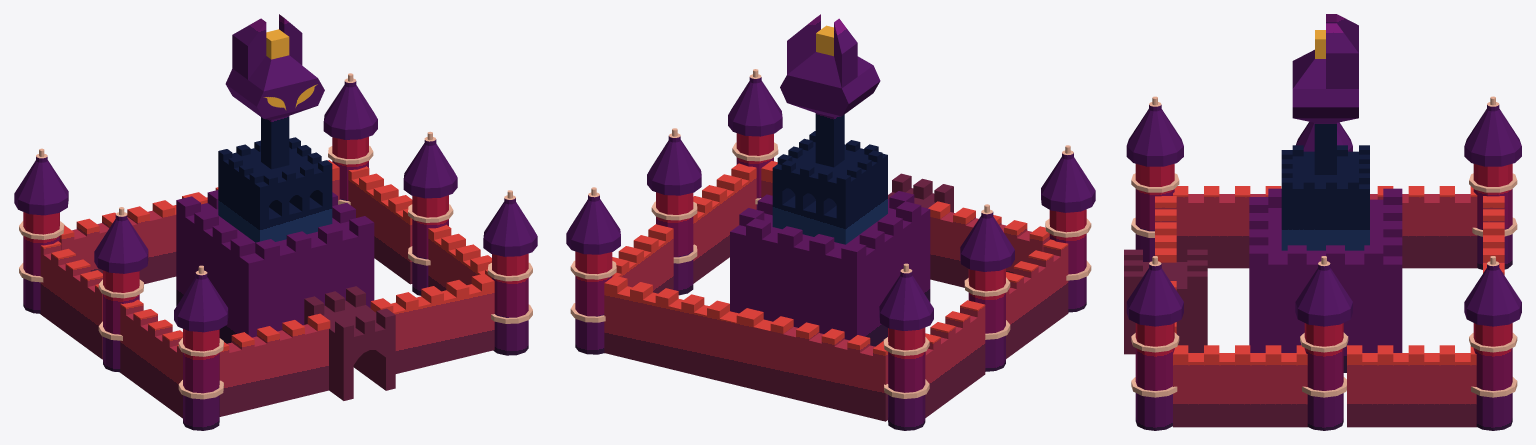
File: CastilloGatos.fbx
3 views of the same model, side by side, from view 1: azimuth 30°, elevation 25°; view 2: azimuth 150°, elevation 25°; view 3: azimuth 270°, elevation 25° (orthographic). The views are drawn at different scales.
Parts seen in each view (by area): view 1: Cube.006; view 2: Cube.006; view 3: Cube.006.
Part boxes in pixels (x1=…): Cube.006: x1=14, y1=14, x2=537, y2=430; Cube.006: x1=566, y1=14, x2=1095, y2=430; Cube.006: x1=1124, y1=14, x2=1521, y2=430.
Size of the model in its own units: 2204 by 1816 by 2015.
2 materials, 2 textured.
